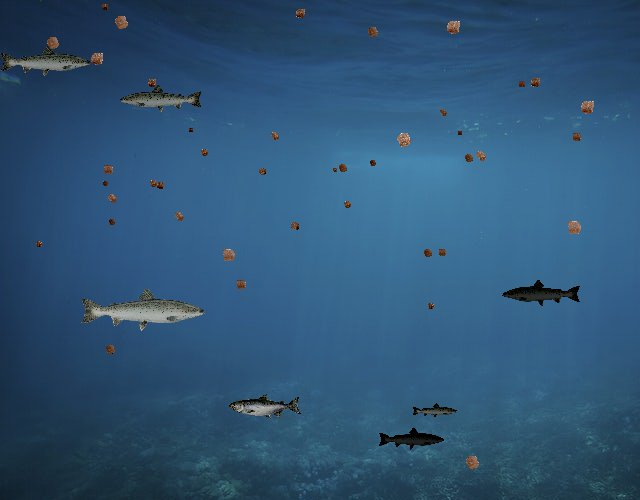Fish: (78, 286, 207, 332), (0, 44, 92, 78), (118, 83, 204, 114), (502, 278, 583, 308), (229, 394, 302, 420), (378, 426, 446, 450), (411, 403, 458, 420)
Pellet: (439, 13, 468, 42), (573, 94, 601, 122), (290, 3, 311, 24), (459, 149, 478, 168), (339, 196, 356, 213), (423, 299, 438, 313), (32, 237, 46, 251)
